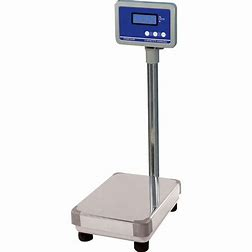Industrial Scale: (70, 1, 183, 252)
